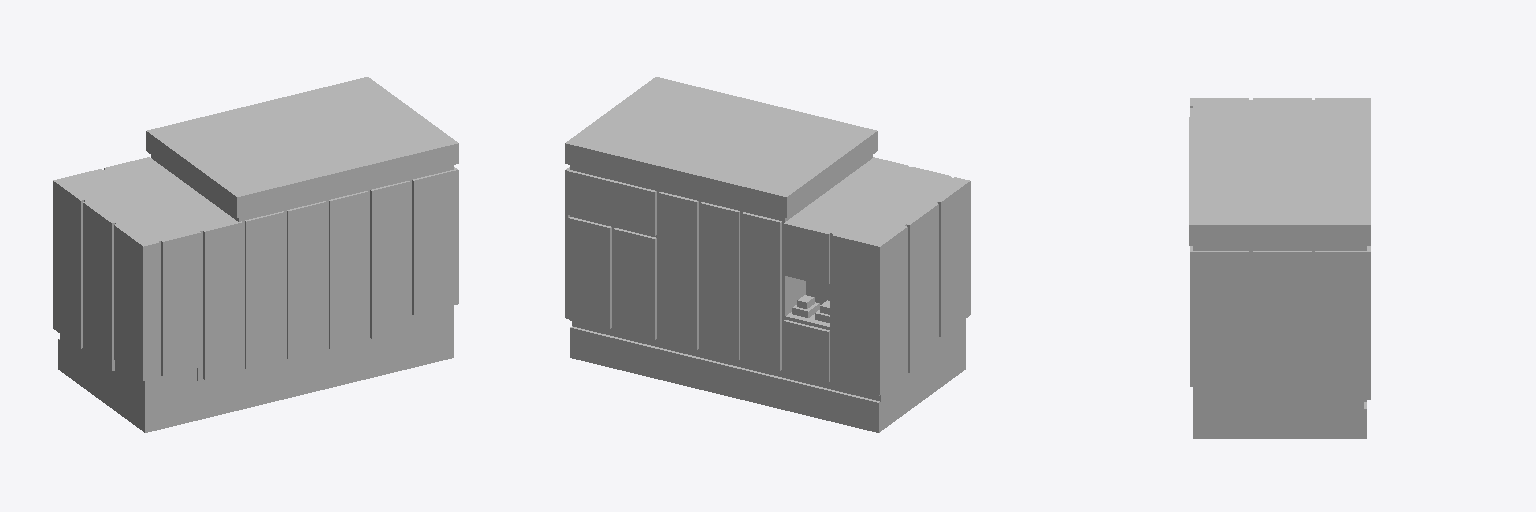
The model's file is nmplm_mirrored.obj.
3 views of the same model, side by side, from view 1: azimuth 30°, elevation 25°; view 2: azimuth 150°, elevation 25°; view 3: azimuth 270°, elevation 25° (orthographic).
Parts seen in each view (by area): view 1: cube; view 2: cube; view 3: cube.
Boxes of the visible parts, <box> form: cube: <box>53,77,458,432</box>; cube: <box>565,77,970,432</box>; cube: <box>1189,98,1370,438</box>.
Size of the model in its own units: 6.12 by 4 by 3.06.